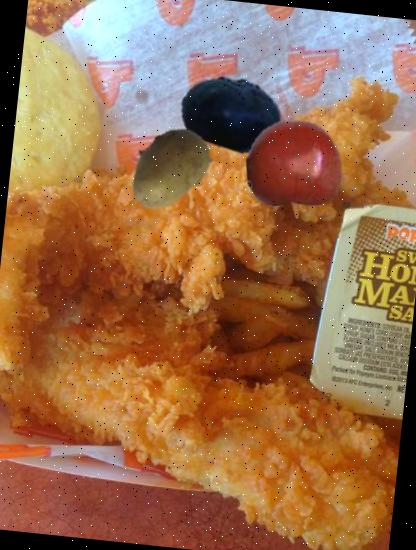Blueberry: (175, 56, 288, 170)
Cherry: (241, 110, 348, 218)
Potato: (118, 118, 218, 218)
